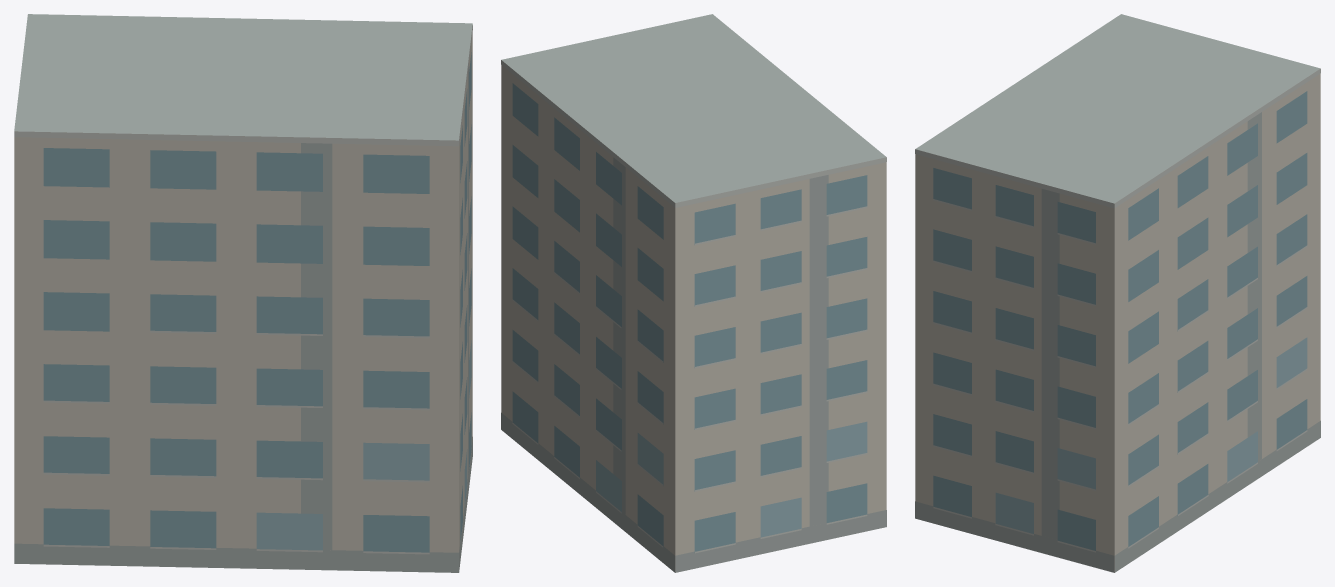
File: residential-def6a800-2ec6-41d8-8a5a-d896078f7e8a.glb
3 renders of one model, left to right at view 1: azimuth 30°, elevation 25°; view 2: azimuth 150°, elevation 25°; view 3: azimuth 270°, elevation 25°, orthographic. The views are drawn at different scales.
Visible parts, largest first — view 1: residential-def6a800-2ec6-41d8-8a5a-d896078f7e8a.tmp; view 2: residential-def6a800-2ec6-41d8-8a5a-d896078f7e8a.tmp; view 3: residential-def6a800-2ec6-41d8-8a5a-d896078f7e8a.tmp.
Boxes of the visible parts, x1,y1,x2,y2 form: residential-def6a800-2ec6-41d8-8a5a-d896078f7e8a.tmp: (14, 14, 472, 572); residential-def6a800-2ec6-41d8-8a5a-d896078f7e8a.tmp: (501, 14, 886, 572); residential-def6a800-2ec6-41d8-8a5a-d896078f7e8a.tmp: (915, 14, 1320, 572).
Size of the model in its own units: 20.15 by 18.3 by 18.22.
